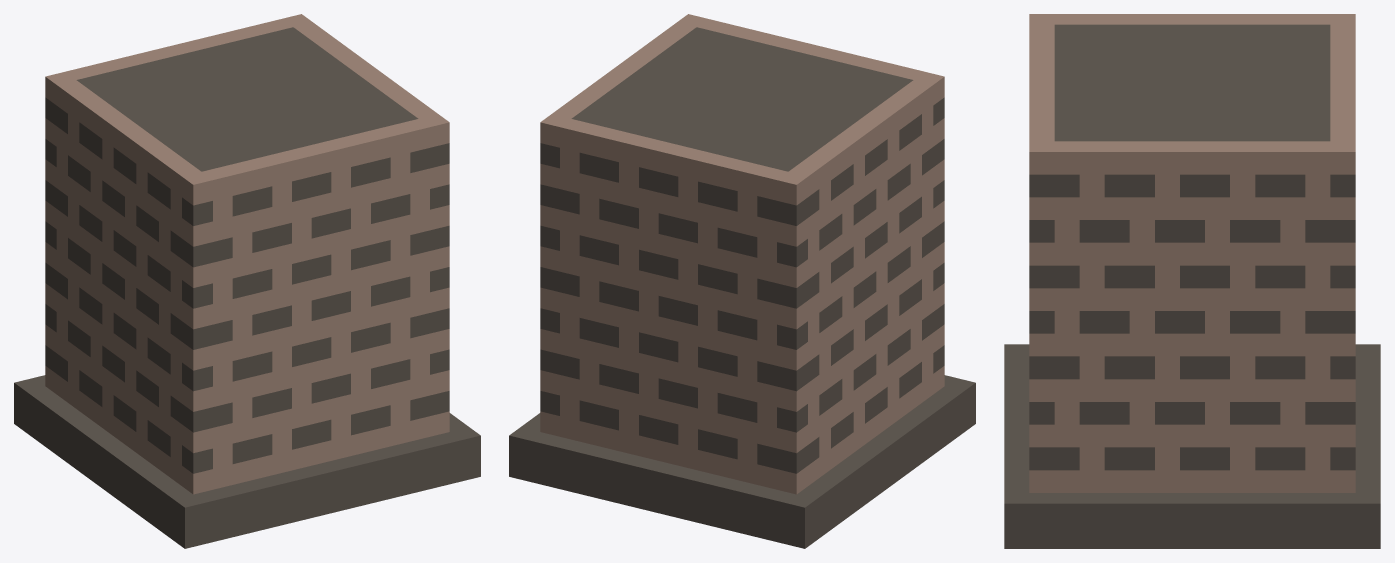
File: dungeon_a_b_inner_wall_solo.obj
The picture shows the model from 3 angles, left to right: view 1: azimuth 30°, elevation 25°; view 2: azimuth 150°, elevation 25°; view 3: azimuth 270°, elevation 25°; orthographic projection. The views are drawn at different scales.
Size of the model in its own units: 1.5 by 1.7 by 1.5.
Materials: 1 (1 with a texture image).
